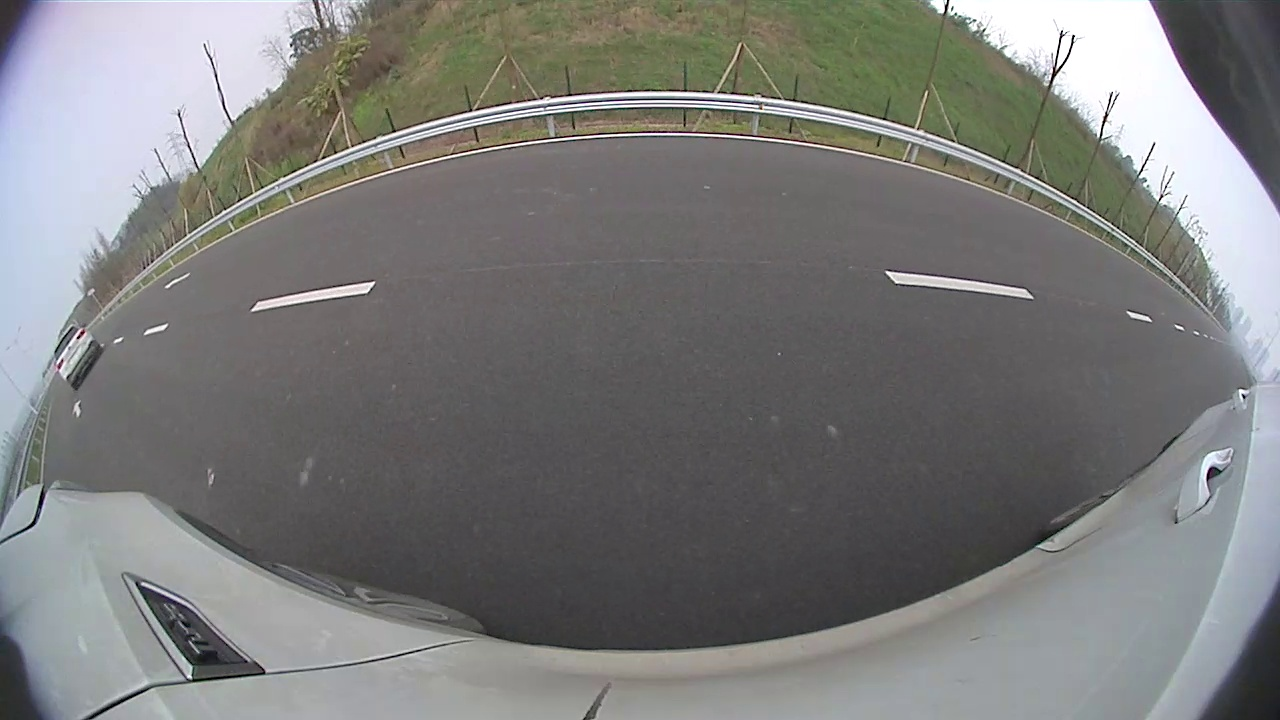car: (707, 147, 784, 199)
front: (706, 174, 717, 191)
rear: (721, 174, 733, 195)
